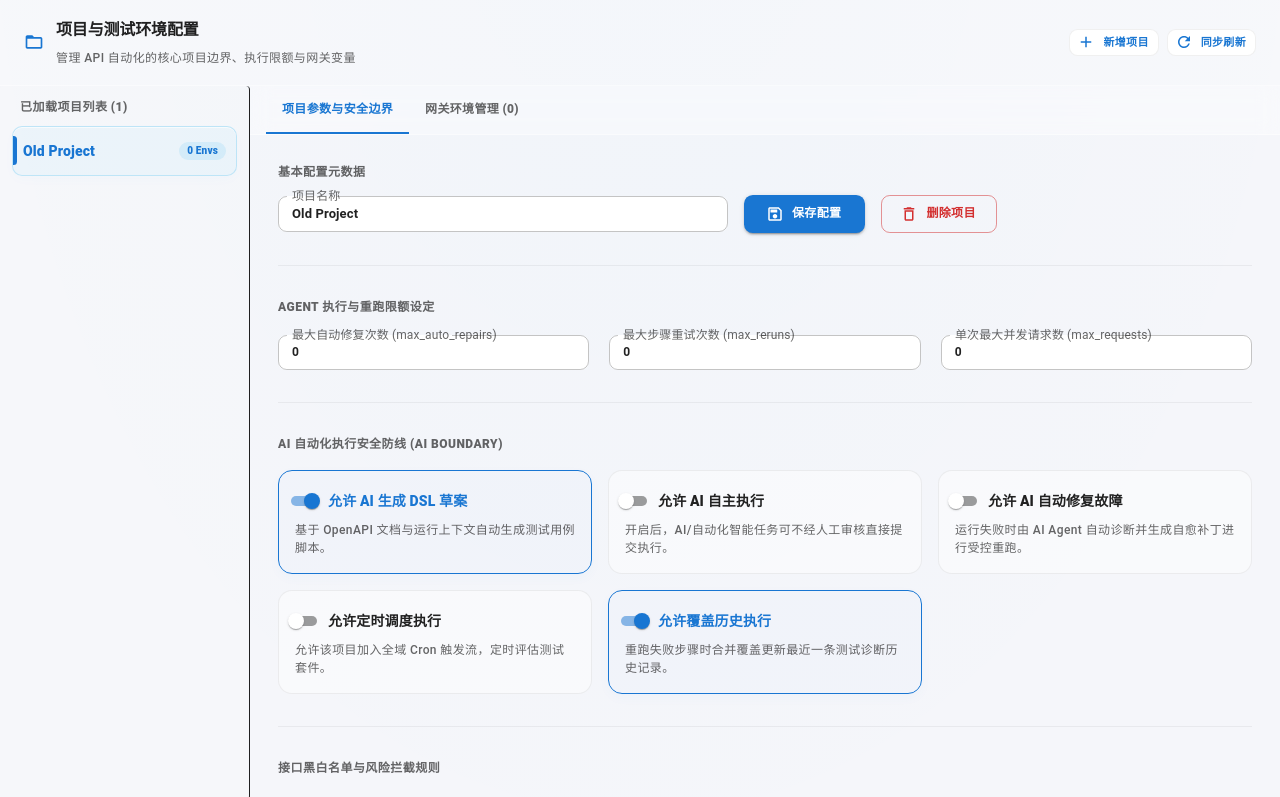
Test: ProjectEnvConfigPage › keeps the newly created project selected after saving
Step 1. Click the button "新增项目" → click(1114, 42), box x1=1070 y1=29 x2=1159 y2=56
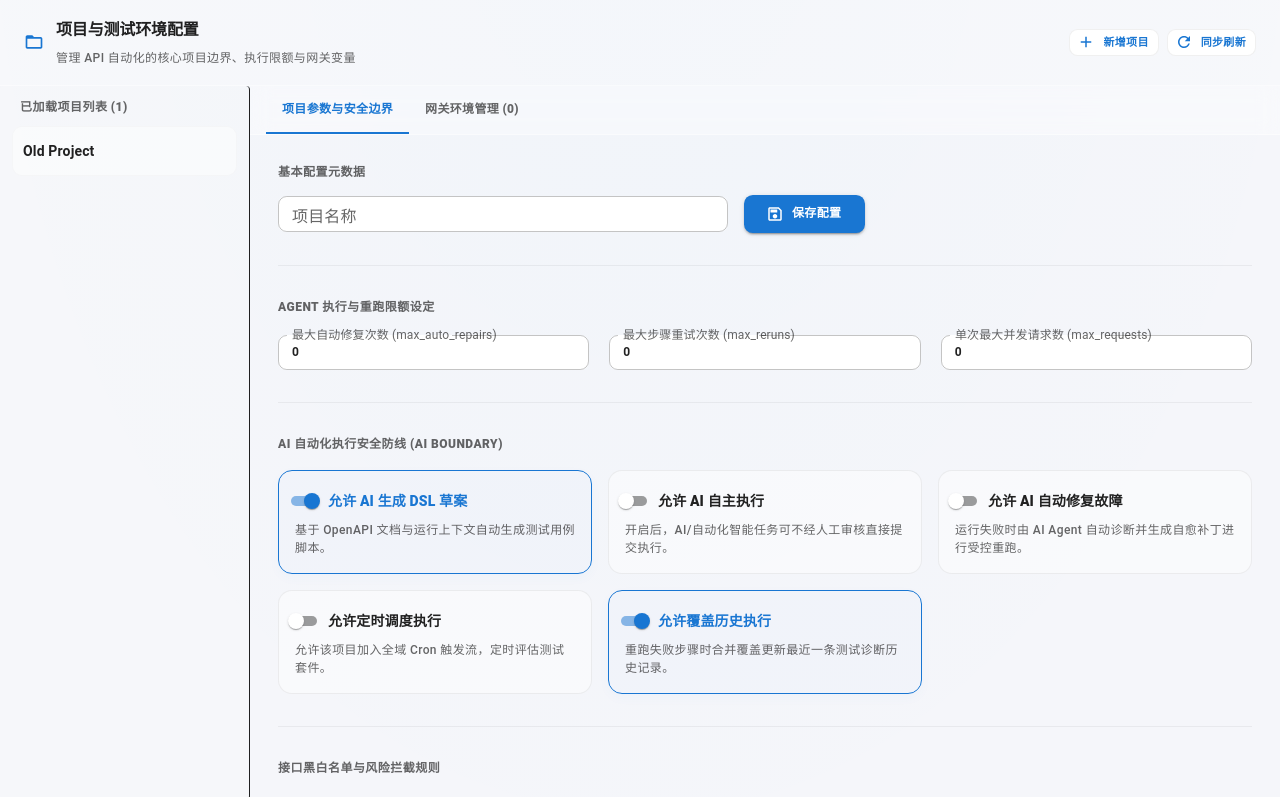
Step 2. Type "New Project" into the field labelled "项目名称" → (503, 214), box x1=278 y1=196 x2=728 y2=232
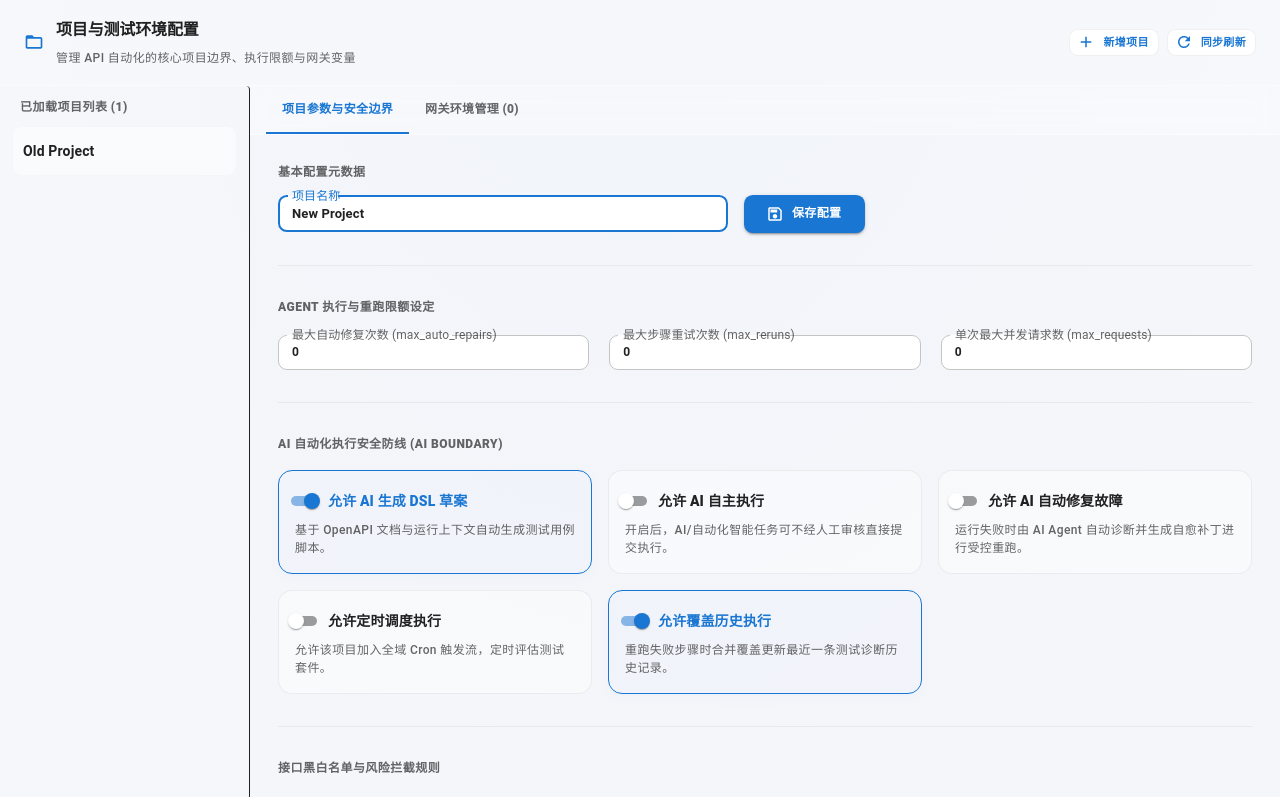
Step 3. Click the button "保存配置" → click(805, 214), box x1=744 y1=195 x2=865 y2=233
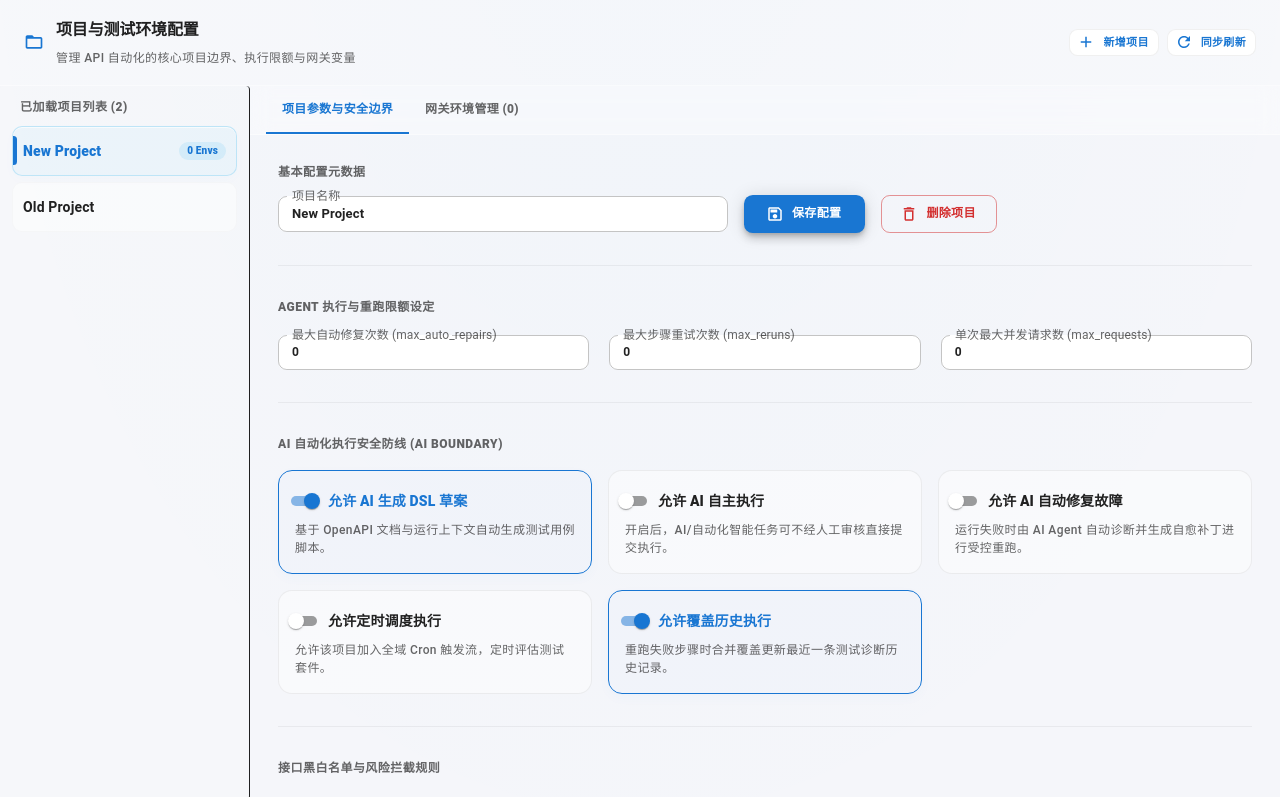
Expected: the text "New Project" is shown, x1=23 y1=143 x2=101 y2=159
